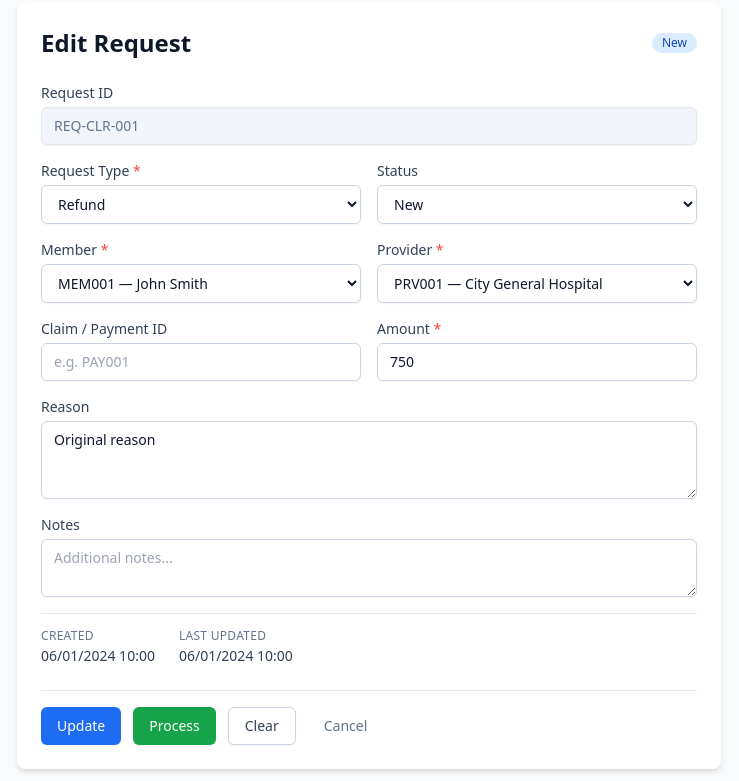
Test: RequestForm › Clear button behavior › resets form fields to original values in edit mode
The width and height of the screenshot is (739, 781).
Replace the text in the number field labelled "Amount *" with "9999" at [537, 362], box [377,343,697,381]
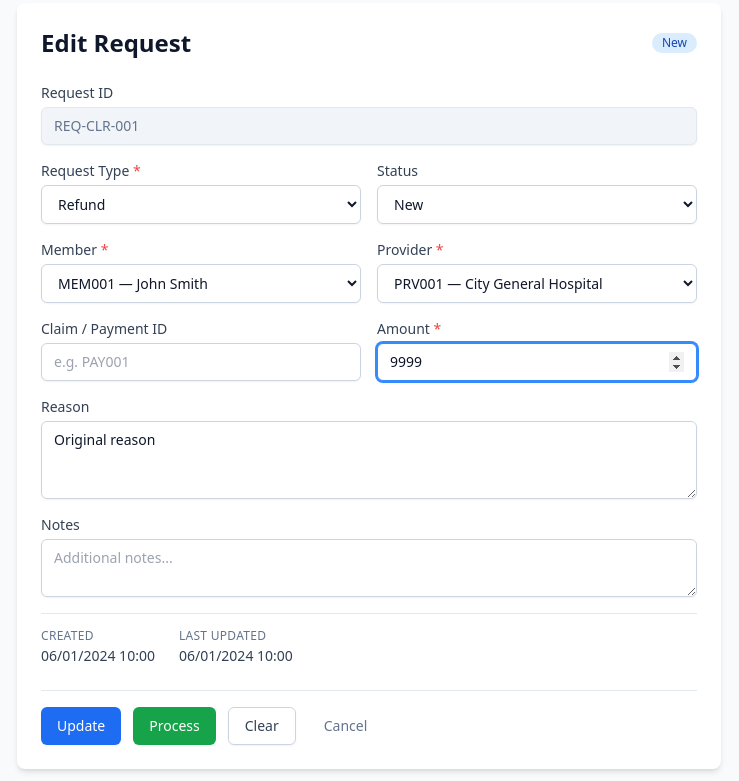
Click the button "Clear" at [262, 726], box [228,707,296,745]
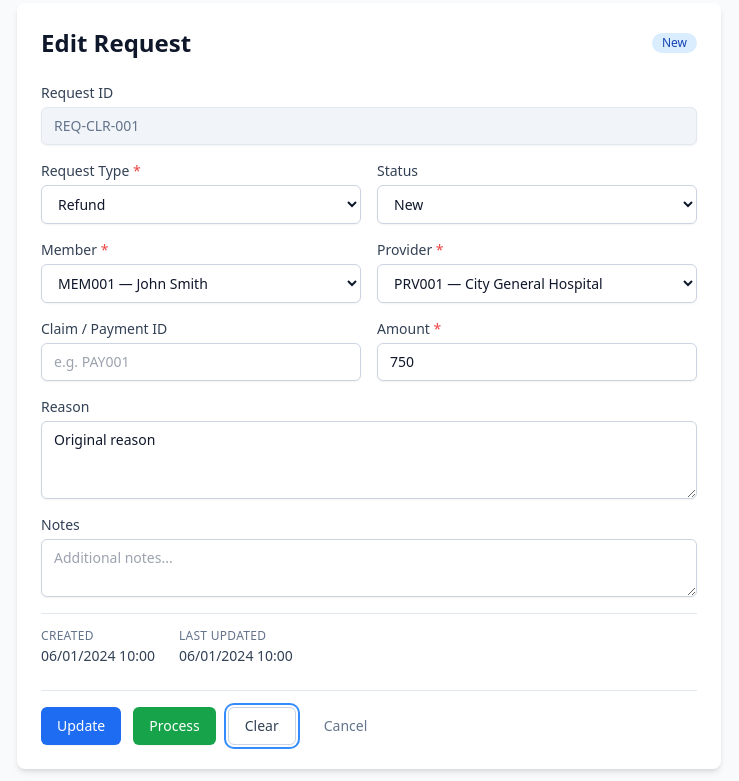
Expected: the text box labelled "Reason" holds "Original reason", [41,421,697,499]
Result: the number field labelled "Amount *" holds "750" at [377,343,697,381]
